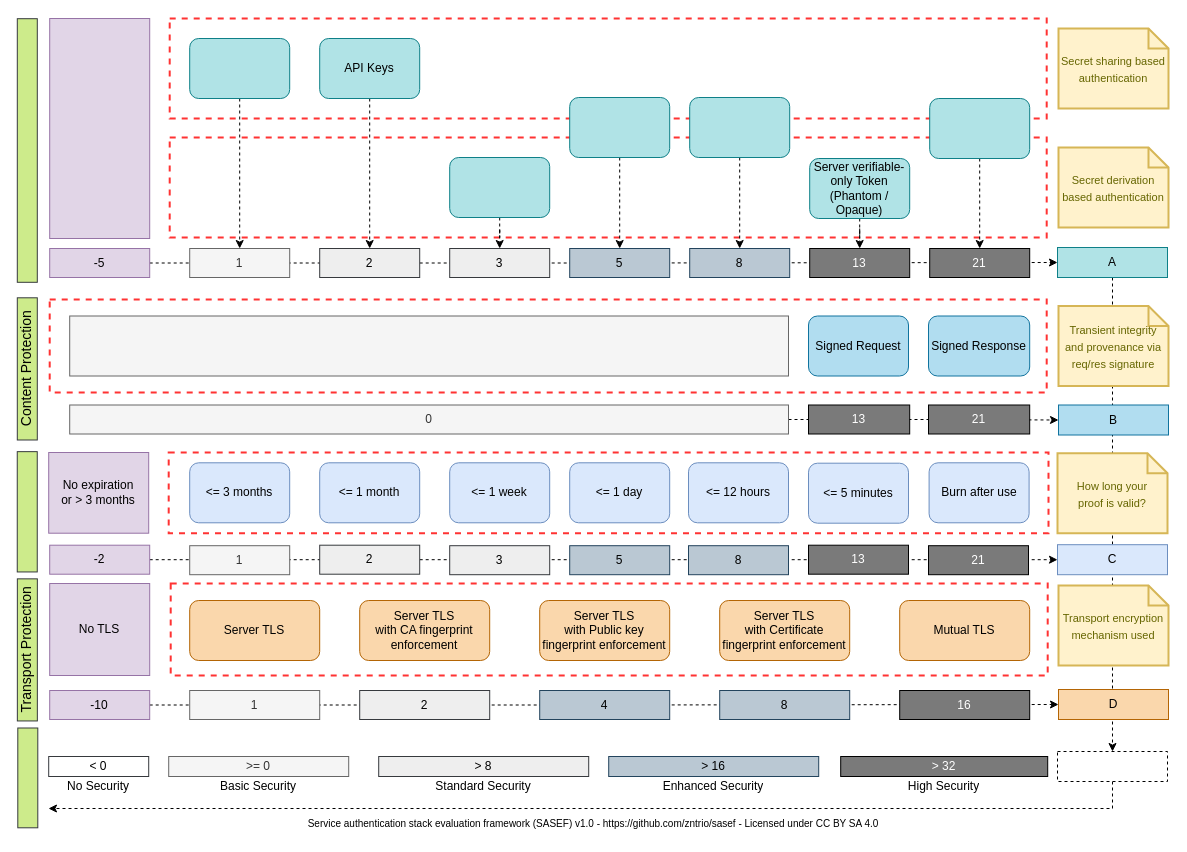
This 1187x852 diagram has some shape labels left out. The box of each missing label's shape, as (x1, y1, x2, y2) in pixels:
A + B + C + D: (1056, 750, 1168, 782)
Asymmetric Authorization: (168, 136, 1047, 238)
Authorization header content: (16, 18, 37, 282)
Basic Authentication: (189, 38, 290, 98)
Digest Authentication: (449, 156, 550, 218)
Evaluation: (17, 727, 38, 828)
Expiration: (16, 451, 37, 572)
Managed Signed Assertion (SAML / OAUTH): (689, 96, 790, 158)
No bearer authorization: (49, 18, 150, 238)
No transient integrity and provenance control: (69, 315, 788, 376)
Sender-constrained Token: (929, 98, 1030, 158)
Standalone Signed Assertion (JWT): (569, 96, 670, 158)
Symmetric Authorization: (168, 17, 1047, 119)
